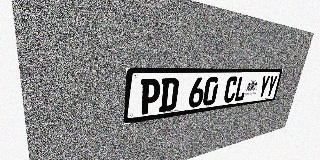0: (202, 77, 220, 106)
6: (188, 77, 206, 108)
C: (223, 76, 239, 103)
D: (159, 78, 180, 112)
L: (234, 76, 249, 102)
P: (139, 78, 161, 115)
Y: (257, 76, 271, 98), (265, 75, 278, 97)
